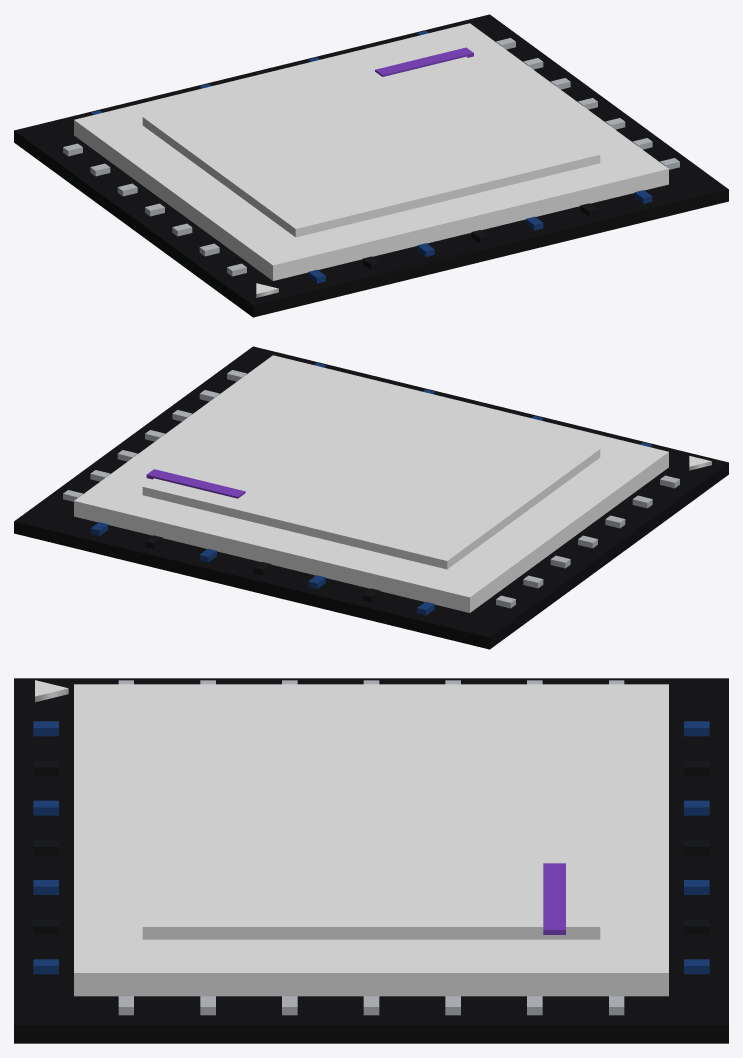
File: hw_cpu_xeon_w5_3435x.glb
The picture shows the model from 3 angles, top to bottom: view 1: azimuth 30°, elevation 25°; view 2: azimuth 150°, elevation 25°; view 3: azimuth 270°, elevation 25°; orthographic projection. The views are drawn at different scales.
Visible parts, largest first — view 1: Body; view 2: Body; view 3: Body.
Part boxes in pixels (left/top/right/bottom): Body: left=14, top=14, right=728, bottom=317; Body: left=14, top=346, right=728, bottom=649; Body: left=14, top=678, right=728, bottom=1043.
Bounding box in the file's own units: 0.058 × 0.00467 × 0.0505.
